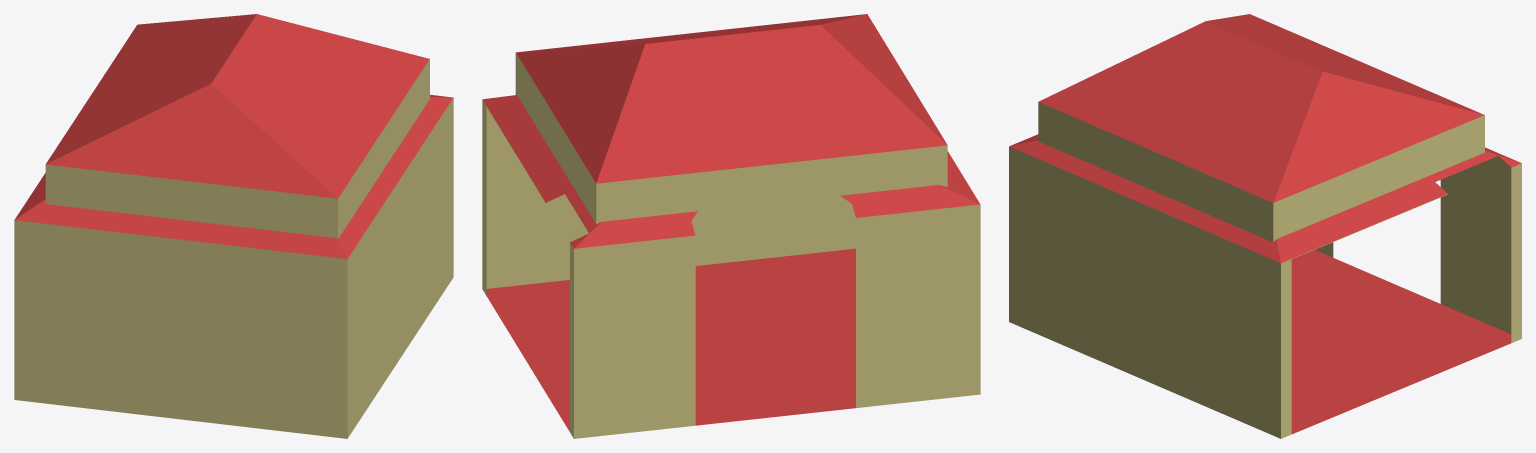
The picture shows the model from 3 angles, left to right: view 1: azimuth 30°, elevation 25°; view 2: azimuth 150°, elevation 25°; view 3: azimuth 270°, elevation 25°; orthographic projection. The views are drawn at different scales.
Visible parts, largest first — view 1: group_6, group_4, group_5, group_3; view 2: group_6, group_4, group_7, group_5, group_3; view 3: group_6, group_4, group_7, group_5, group_3.
Boxes of the visible parts, box(x1,y1,x2,y2) form: group_6: box(14, 98, 453, 438); group_4: box(46, 14, 429, 198); group_5: box(45, 59, 429, 238); group_3: box(14, 94, 453, 259); group_6: box(482, 99, 980, 438); group_4: box(516, 14, 947, 183); group_7: box(486, 248, 855, 431); group_5: box(515, 52, 947, 224); group_3: box(482, 95, 979, 248); group_6: box(1009, 146, 1521, 438); group_4: box(1038, 14, 1484, 202); group_7: box(1291, 250, 1511, 434); group_5: box(1038, 102, 1484, 242); group_3: box(1009, 134, 1521, 262).
Bounding box in the file's own units: 25.43 × 25.4 × 15.51.
